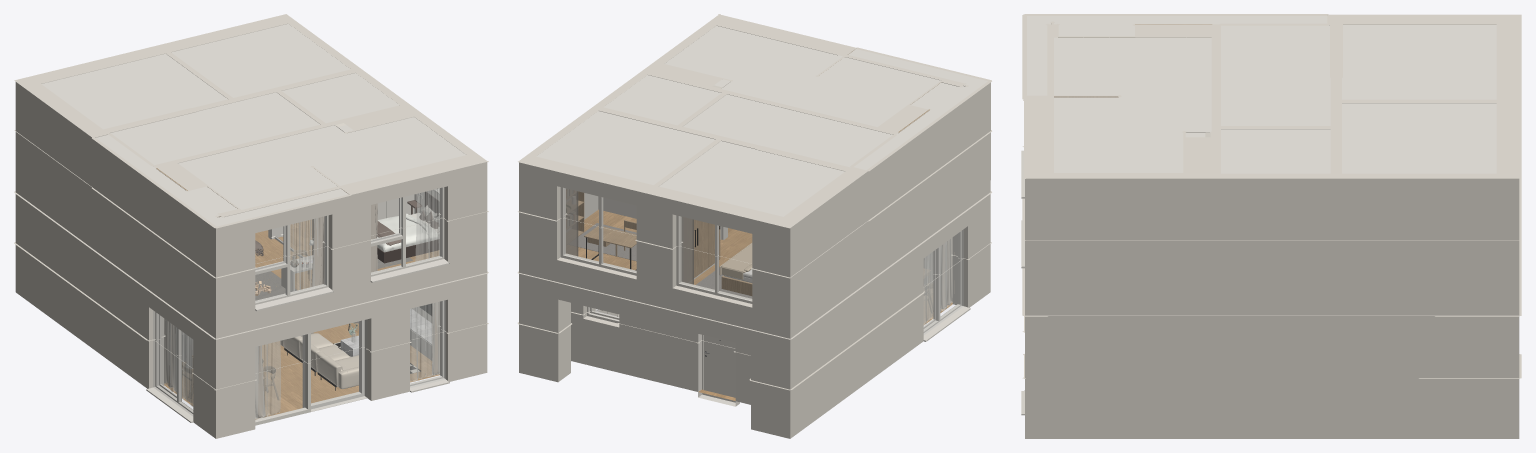
Rendered from wnetrze-SZEREG-v12.glb.
The picture shows the model from 3 angles, left to right: view 1: azimuth 30°, elevation 25°; view 2: azimuth 150°, elevation 25°; view 3: azimuth 270°, elevation 25°; orthographic projection. The views are drawn at different scales.
Parts seen in each view (by area): view 1: KOND_1__SCIANY, KOND_1__SUFIT, KOND_0__SCIANY, KOND_0__OKNA, KOND_1__OKNA, KOND_0__WYPOSAZENIE, KOND_1__WYPOSAZENIE, KOND_0__PODLOGA, KOND_1__PODLOGA, KOND_0__PRZEKROJ, KOND_1__PRZEKROJ; view 2: KOND_1__SCIANY, KOND_0__SCIANY, KOND_1__SUFIT, KOND_1__OKNA, KOND_1__WYPOSAZENIE, KOND_0__OKNA, KOND_1__PODLOGA, KOND_0__WYPOSAZENIE, KOND_0__PRZEKROJ, KOND_1__PRZEKROJ; view 3: KOND_1__SCIANY, KOND_0__SCIANY, KOND_1__SUFIT, KOND_1__PRZEKROJ.
Part boxes in pixels (x1,y1,x2,y2): KOND_1__SCIANY: [14, 14, 488, 326]; KOND_1__SUFIT: [41, 24, 465, 226]; KOND_0__SCIANY: [14, 180, 488, 438]; KOND_0__OKNA: [146, 300, 449, 425]; KOND_1__OKNA: [255, 187, 449, 311]; KOND_0__WYPOSAZENIE: [164, 301, 439, 418]; KOND_1__WYPOSAZENIE: [218, 188, 439, 300]; KOND_0__PODLOGA: [164, 323, 439, 419]; KOND_1__PODLOGA: [255, 219, 439, 290]; KOND_0__PRZEKROJ: [14, 242, 488, 390]; KOND_1__PRZEKROJ: [14, 130, 488, 278]; KOND_1__SCIANY: [518, 14, 991, 326]; KOND_0__SCIANY: [517, 180, 991, 438]; KOND_1__SUFIT: [536, 26, 987, 216]; KOND_1__OKNA: [560, 187, 752, 303]; KOND_1__WYPOSAZENIE: [566, 188, 752, 298]; KOND_0__OKNA: [923, 230, 970, 341]; KOND_1__PODLOGA: [578, 209, 752, 284]; KOND_0__WYPOSAZENIE: [590, 237, 954, 356]; KOND_0__PRZEKROJ: [517, 242, 991, 390]; KOND_1__PRZEKROJ: [518, 130, 991, 278]; KOND_1__SCIANY: [1022, 14, 1521, 300]; KOND_0__SCIANY: [1022, 178, 1521, 438]; KOND_1__SUFIT: [1027, 16, 1496, 173]; KOND_1__PRZEKROJ: [1022, 96, 1521, 240].
Bounding box in the file's own units: 7.61 × 5.73 × 9.71.
144 materials, 60 textured.
